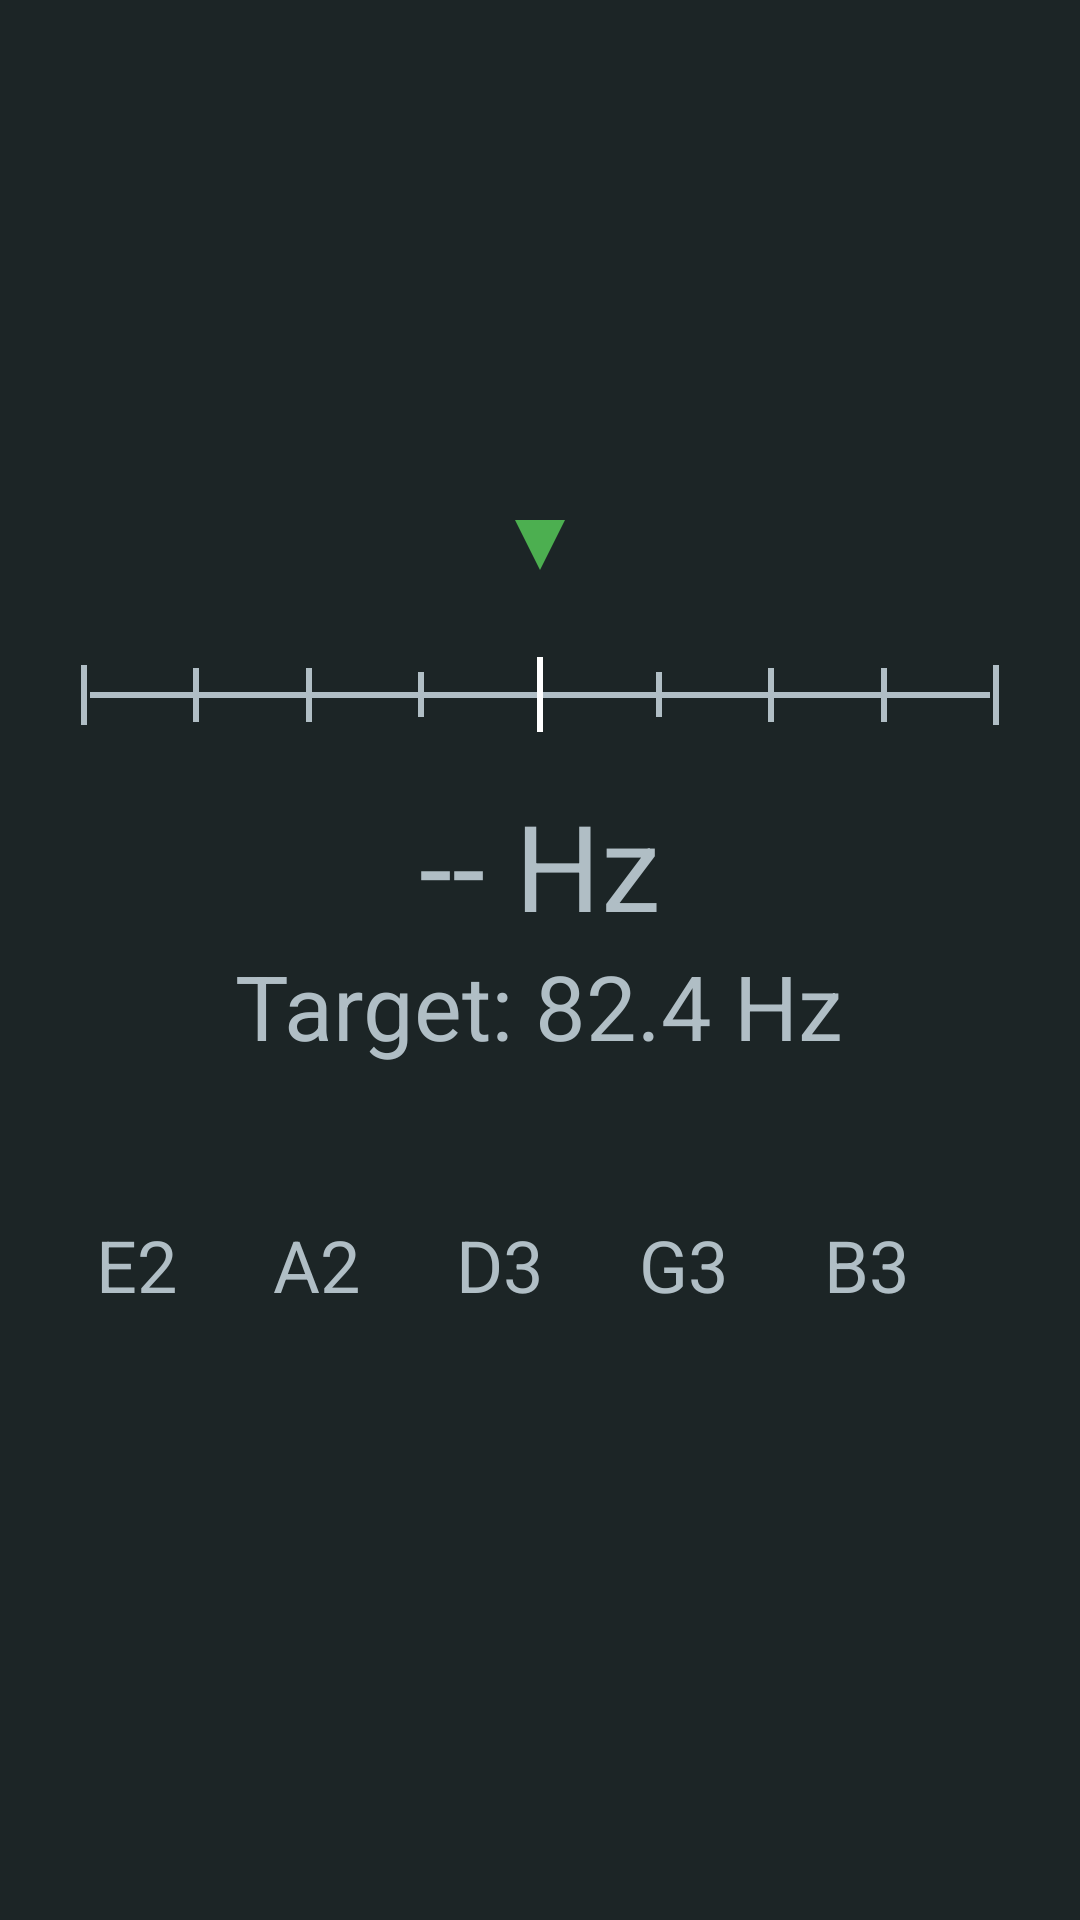

Where icons sit on this 1080px×1920px app screen, as (x1, y1, x2, y2):
Tuner Pointer: (515, 520, 565, 570)
